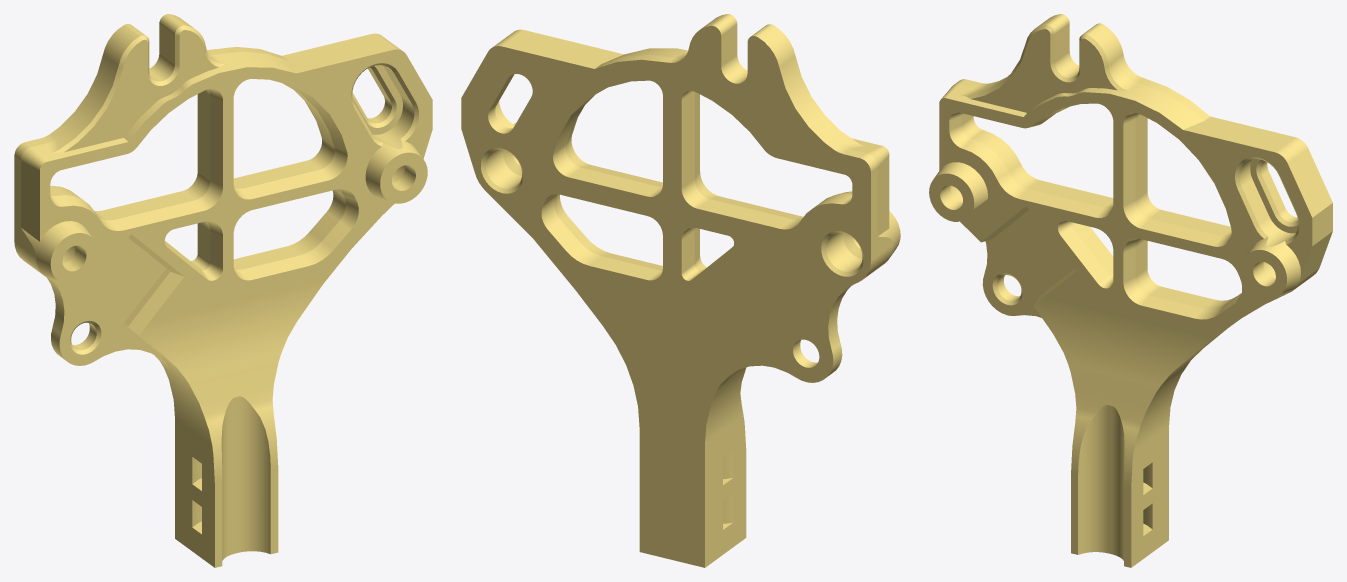
File: A4T - THB Mount - WWBMG.gltf
3 renders of one model, left to right at view 1: azimuth 30°, elevation 25°; view 2: azimuth 150°, elevation 25°; view 3: azimuth 330°, elevation 25°, orthographic. The views are drawn at different scales.
Visible parts, largest first — view 1: A4T - THB Mount - WWBMG; view 2: A4T - THB Mount - WWBMG; view 3: A4T - THB Mount - WWBMG.
Part boxes in pixels (left/top/right/bottom): A4T - THB Mount - WWBMG: left=14, top=14, right=432, bottom=567; A4T - THB Mount - WWBMG: left=461, top=14, right=900, bottom=567; A4T - THB Mount - WWBMG: left=929, top=14, right=1332, bottom=567.
Bounding box in the file's own units: 0.0528 × 0.067 × 0.0092.
